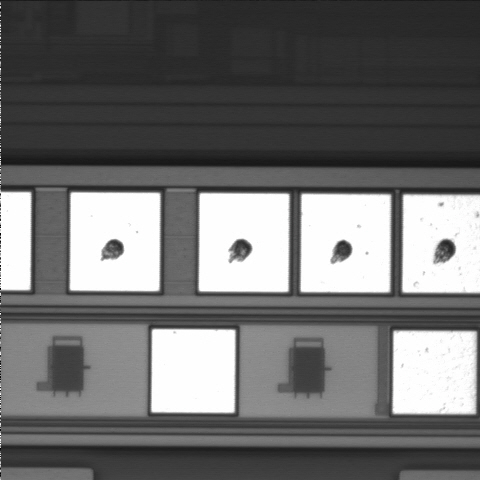pad: (199, 193, 289, 292), (70, 193, 160, 291), (301, 194, 391, 292), (151, 329, 235, 413), (393, 331, 476, 414)
